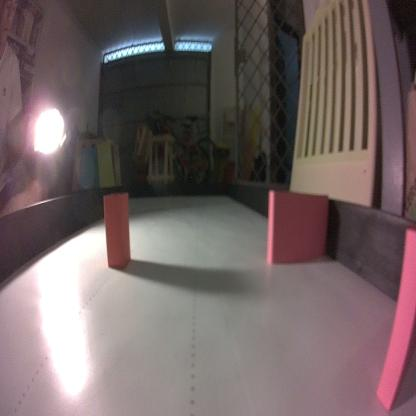magenta: (374, 218, 413, 416), (266, 187, 330, 268)
red: (102, 190, 132, 278)
